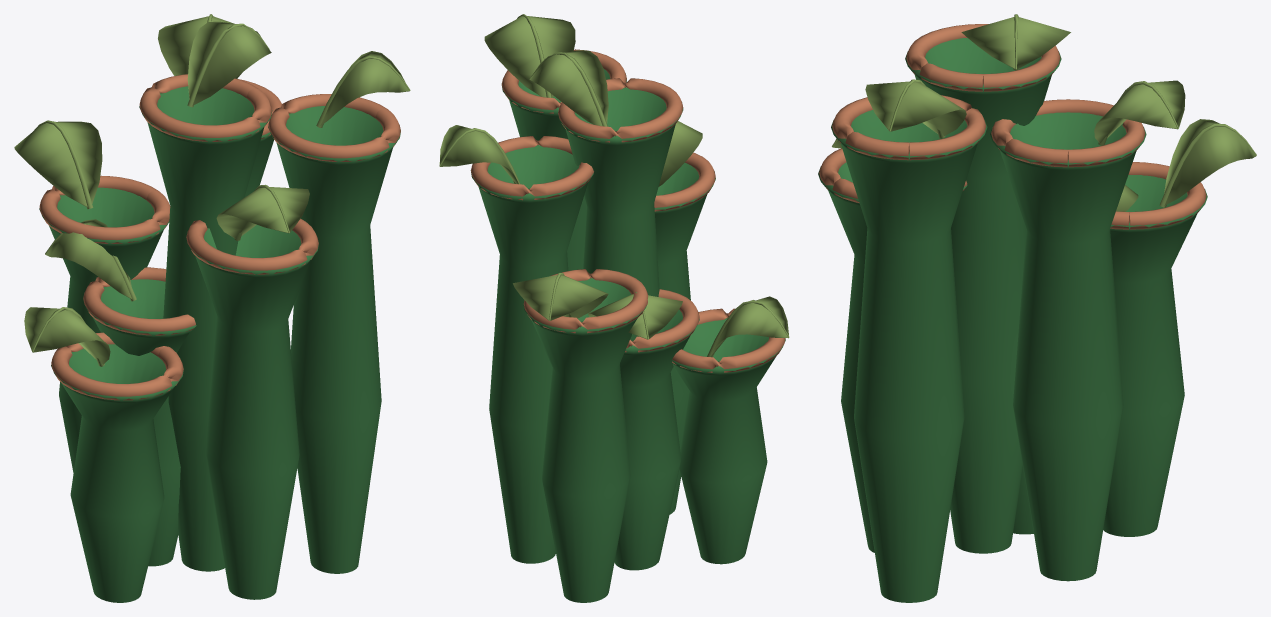
The model's file is xylo_pitchers.glb.
The picture shows the model from 3 angles, left to right: view 1: azimuth 30°, elevation 25°; view 2: azimuth 150°, elevation 25°; view 3: azimuth 270°, elevation 25°; orthographic projection. The views are drawn at different scales.
Parts seen in each view (by area): view 1: xylo_pitchers; view 2: xylo_pitchers; view 3: xylo_pitchers.
Part boxes in pixels (x1=…): xylo_pitchers: x1=14, y1=14, x2=410, y2=602; xylo_pitchers: x1=439, y1=14, x2=789, y2=602; xylo_pitchers: x1=818, y1=14, x2=1256, y2=602.
Bounding box in the file's own units: 7.15 × 10.34 × 7.46.
